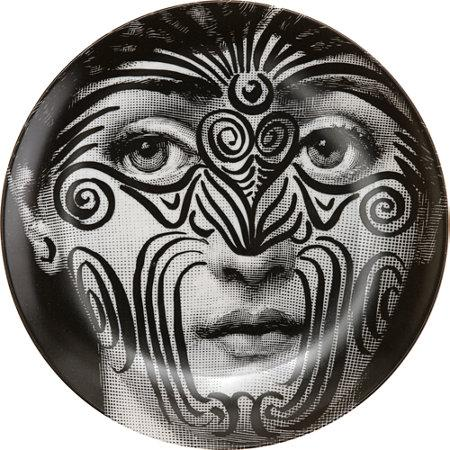person: (38, 20, 440, 450)
